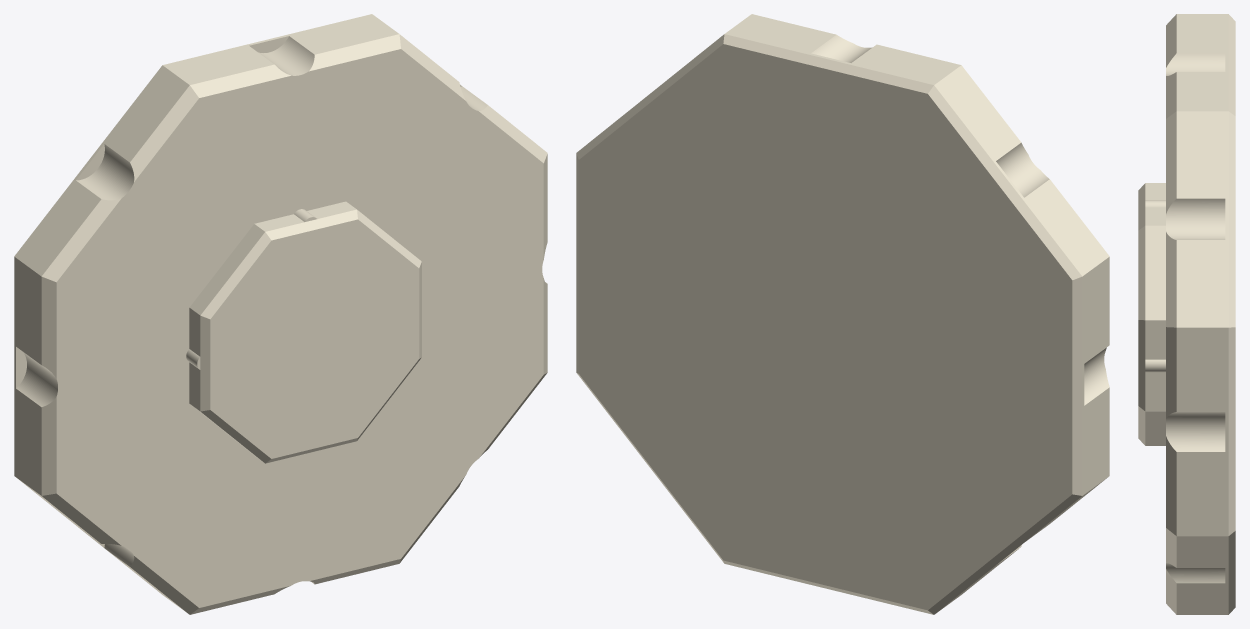
Rendered from t3@ivory.glb.
The picture shows the model from 3 angles, left to right: view 1: azimuth 30°, elevation 25°; view 2: azimuth 150°, elevation 25°; view 3: azimuth 270°, elevation 25°; orthographic projection. The views are drawn at different scales.
Visible parts, largest first — view 1: geometry_0; view 2: geometry_0; view 3: geometry_0.
Boxes of the visible parts, x1,y1,x2,y2 form: geometry_0: [14, 14, 547, 614]; geometry_0: [576, 14, 1109, 614]; geometry_0: [1138, 14, 1235, 614].
Size of the model in its own units: 32 by 32 by 5.6.
